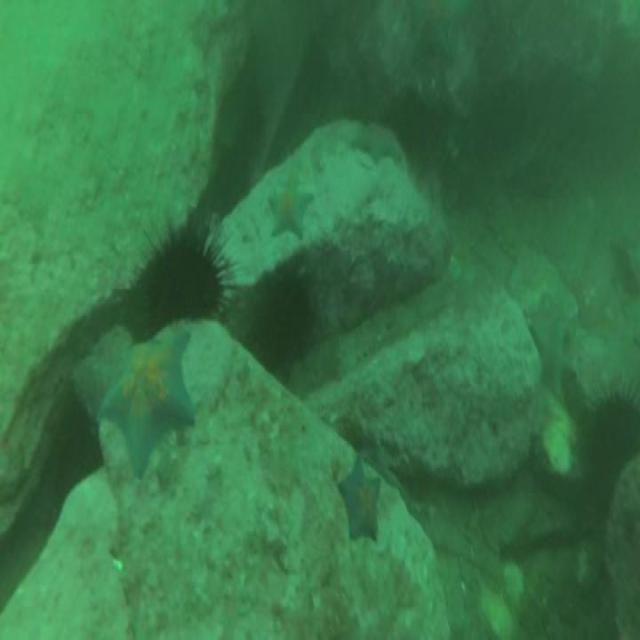echinus: (126, 217, 236, 335), (575, 371, 640, 517), (260, 267, 316, 376)
holothurian: (489, 196, 518, 264)
scallop: (212, 66, 270, 177), (390, 80, 430, 155)
starfish: (95, 330, 202, 484), (333, 449, 382, 548), (348, 115, 410, 169), (265, 176, 313, 240)
